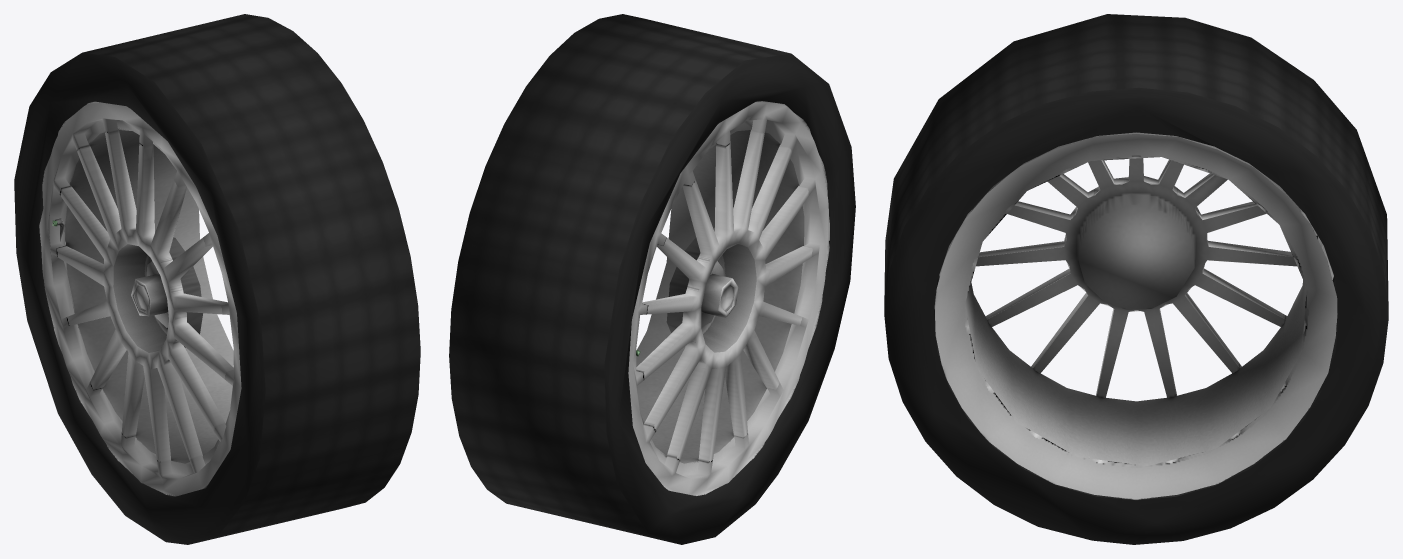
Rendered from FN_wheel_d3.obj.
3 views of the same model, side by side, from view 1: azimuth 30°, elevation 25°; view 2: azimuth 150°, elevation 25°; view 3: azimuth 270°, elevation 25° (orthographic).
Visible parts, largest first — view 1: FN_wheel_FN_wheel_DefaultMaterial; view 2: FN_wheel_FN_wheel_DefaultMaterial; view 3: FN_wheel_FN_wheel_DefaultMaterial.
Boxes of the visible parts, x1,y1,x2,y2 form: FN_wheel_FN_wheel_DefaultMaterial: (14, 14, 420, 544); FN_wheel_FN_wheel_DefaultMaterial: (449, 14, 855, 544); FN_wheel_FN_wheel_DefaultMaterial: (884, 14, 1388, 544).
Bounding box in the file's own units: 0.2179 × 0.6054 × 0.6054.
1 material, 1 textured.
